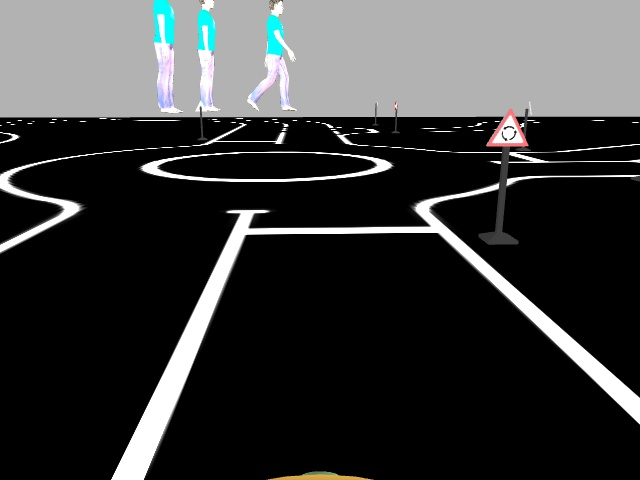Roundabout: (482, 108, 530, 149)
